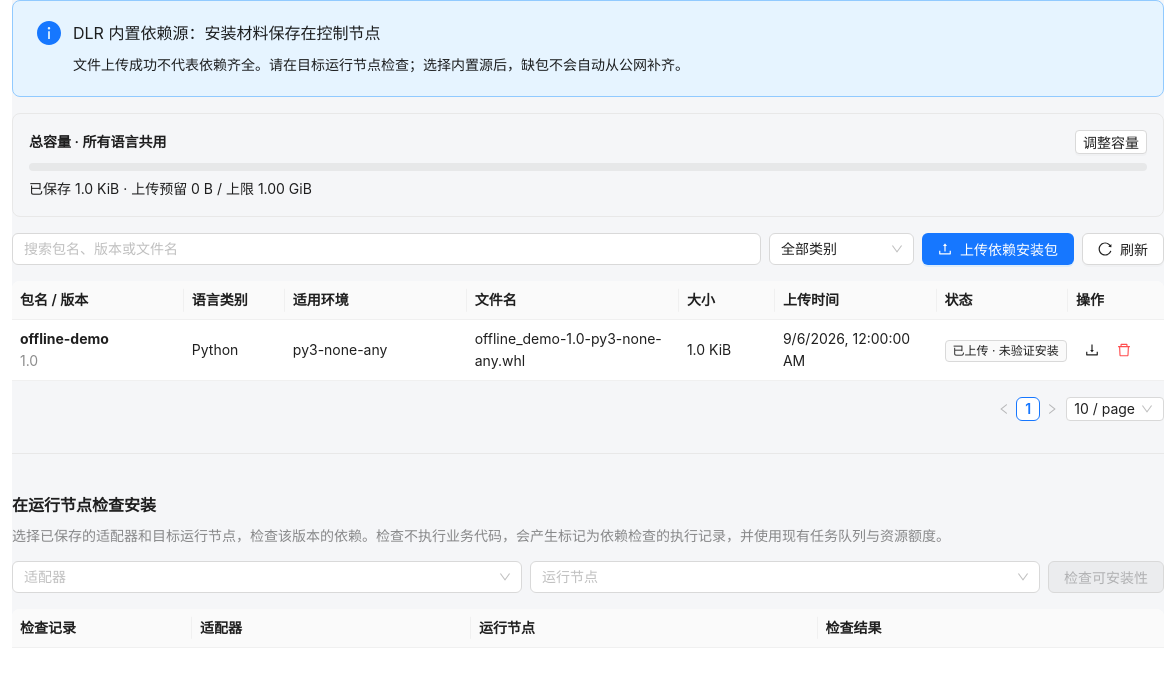
Scenario: distinguishes uploaded materials from installability and searches files
The width and height of the screenshot is (1176, 696).
Expected: the text "offline-demo" is shown, [20, 330, 109, 347]
Expected: the text "已上传 · 未验证安装" is shown, [945, 340, 1067, 362]
In the field labelled "搜索包名、版本或文件名": (378, 249) [24, 238, 733, 260], type "does-not-exist"
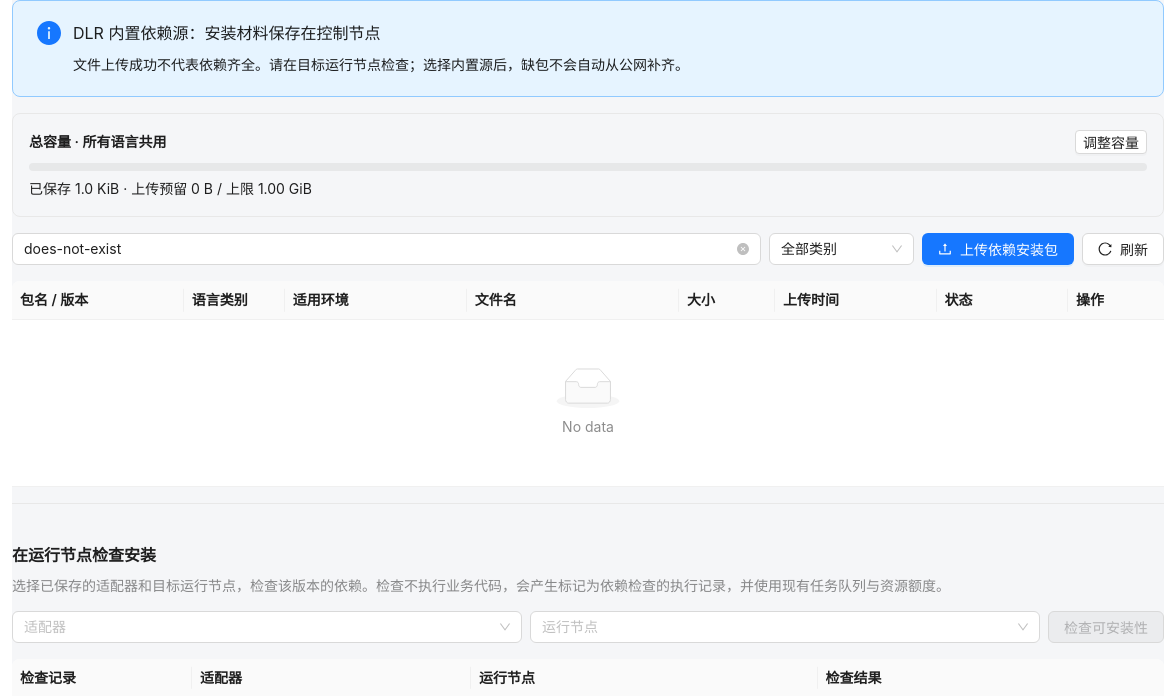
Expected: the text "offline-demo" is gone
